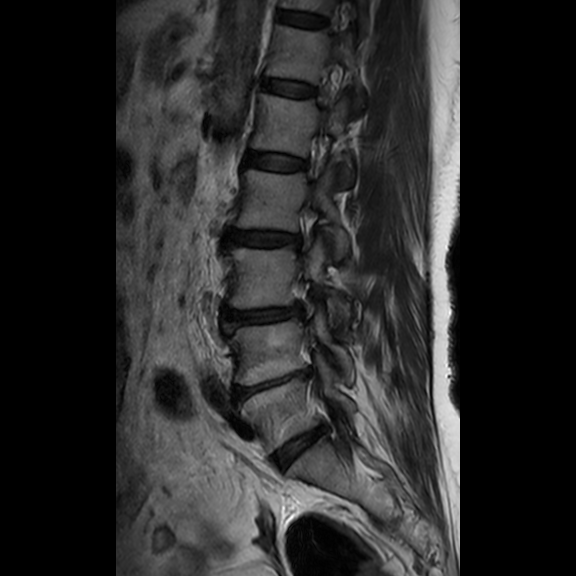LFS0: (288, 126, 340, 188), (281, 199, 328, 260)
